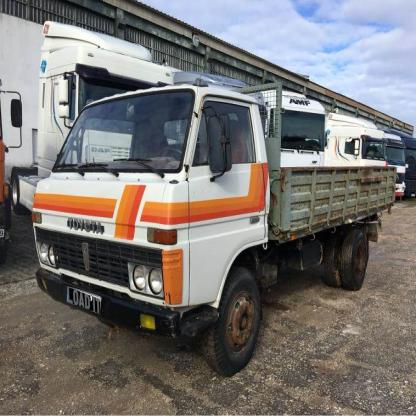dump_truck: (28, 71, 403, 374)
